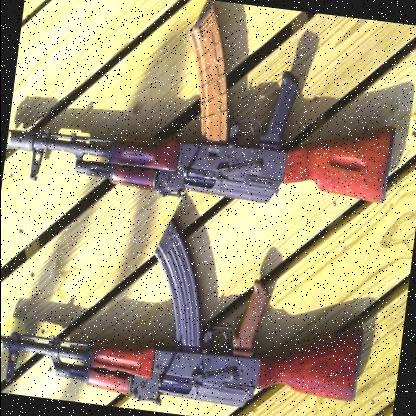rifle: (0, 0, 413, 239), (0, 198, 379, 416)
